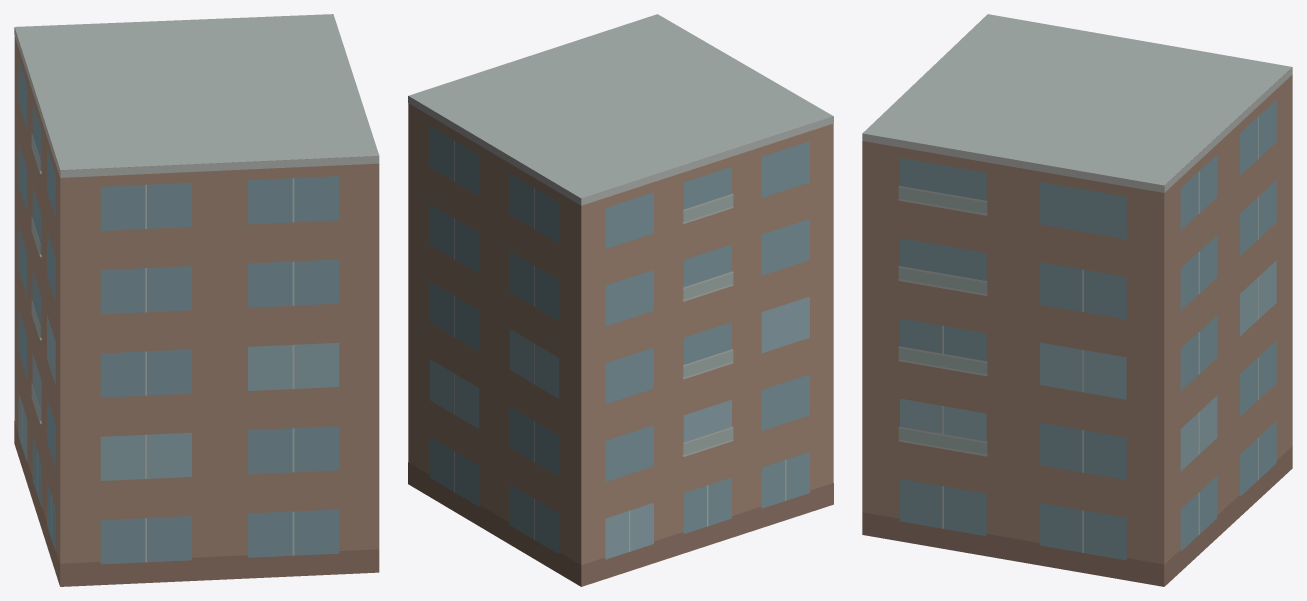
File: survey-upis-32868905.glb
3 views of the same model, side by side, from view 1: azimuth 30°, elevation 25°; view 2: azimuth 150°, elevation 25°; view 3: azimuth 270°, elevation 25° (orthographic). The views are drawn at different scales.
Visible parts, largest first — view 1: survey-upis-32868905.tmp; view 2: survey-upis-32868905.tmp; view 3: survey-upis-32868905.tmp.
Part boxes in pixels (x1,y1,x2,y2): survey-upis-32868905.tmp: (14,14,379,586); survey-upis-32868905.tmp: (408,14,833,586); survey-upis-32868905.tmp: (862,14,1292,586).
Bounding box in the file's own units: 12.01 × 13.1 × 12.74.
